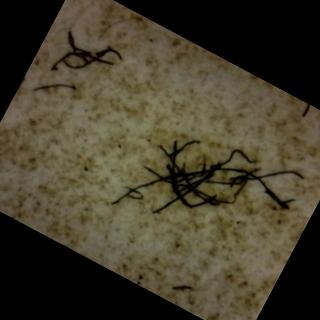Microplastic: (22, 54, 94, 120), (6, 66, 34, 112)
